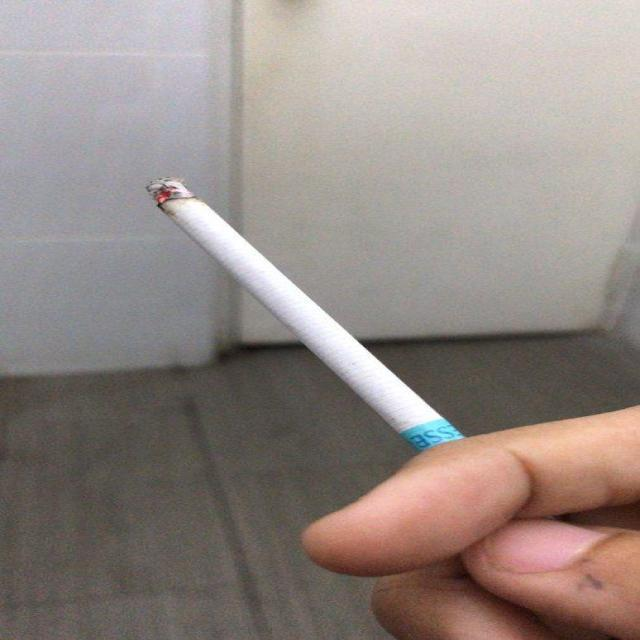rokok: (140, 166, 464, 447)
